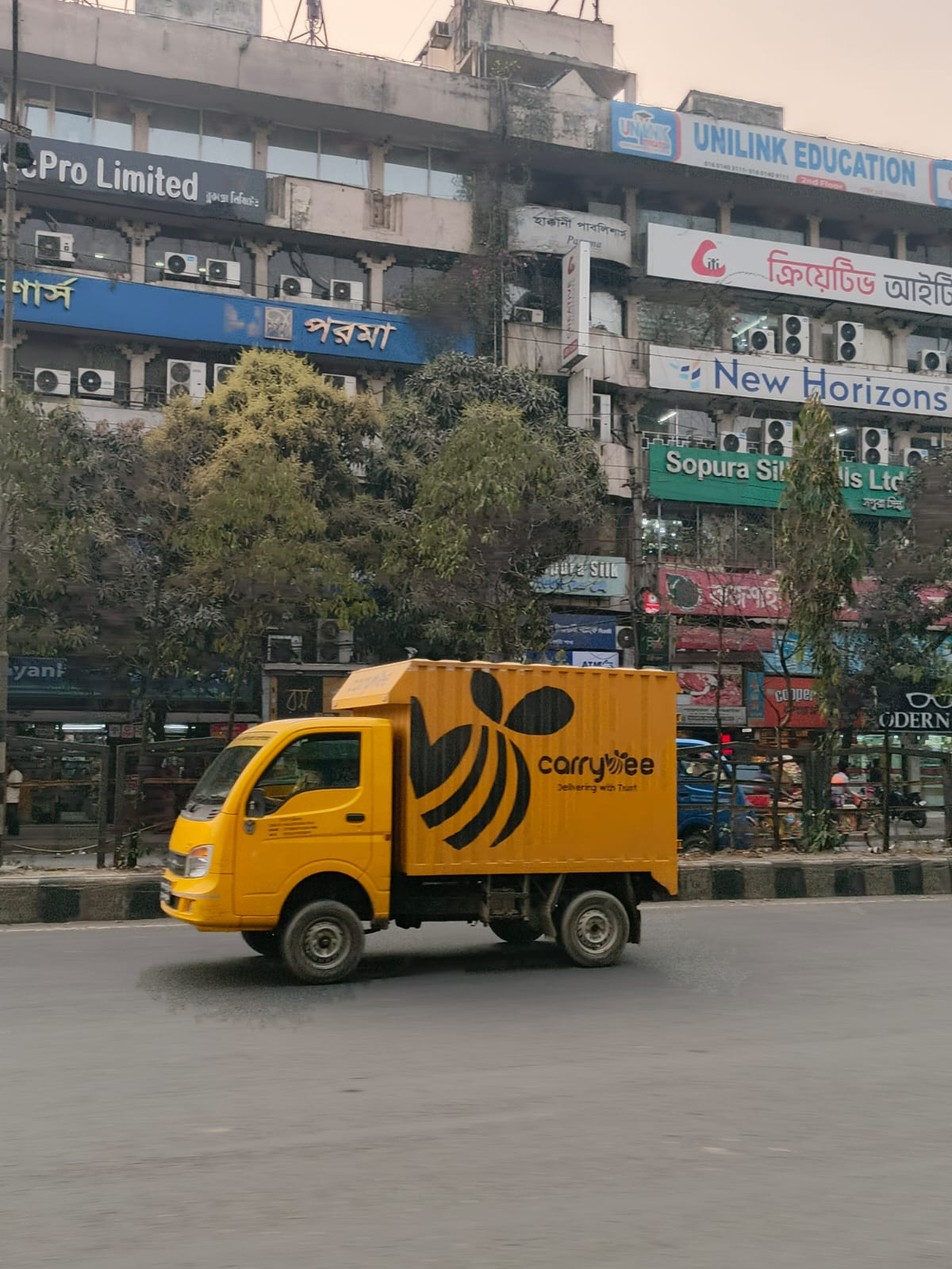Pickup: (119, 628, 703, 988)
